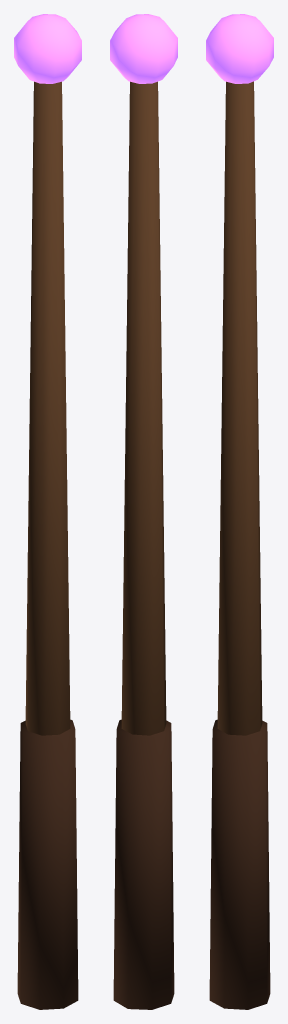
File: wand.glb
The picture shows the model from 3 angles, left to right: view 1: azimuth 30°, elevation 25°; view 2: azimuth 150°, elevation 25°; view 3: azimuth 330°, elevation 25°; orthographic projection.
Parts seen in each view (by area): view 1: wand; view 2: wand; view 3: wand.
Boxes of the visible parts, <box> form: wand: <box>14,14,81,1009</box>; wand: <box>110,14,177,1009</box>; wand: <box>206,14,273,1009</box>.
Bounding box in the file's own units: 0.0227 × 0.3623 × 0.0215.
